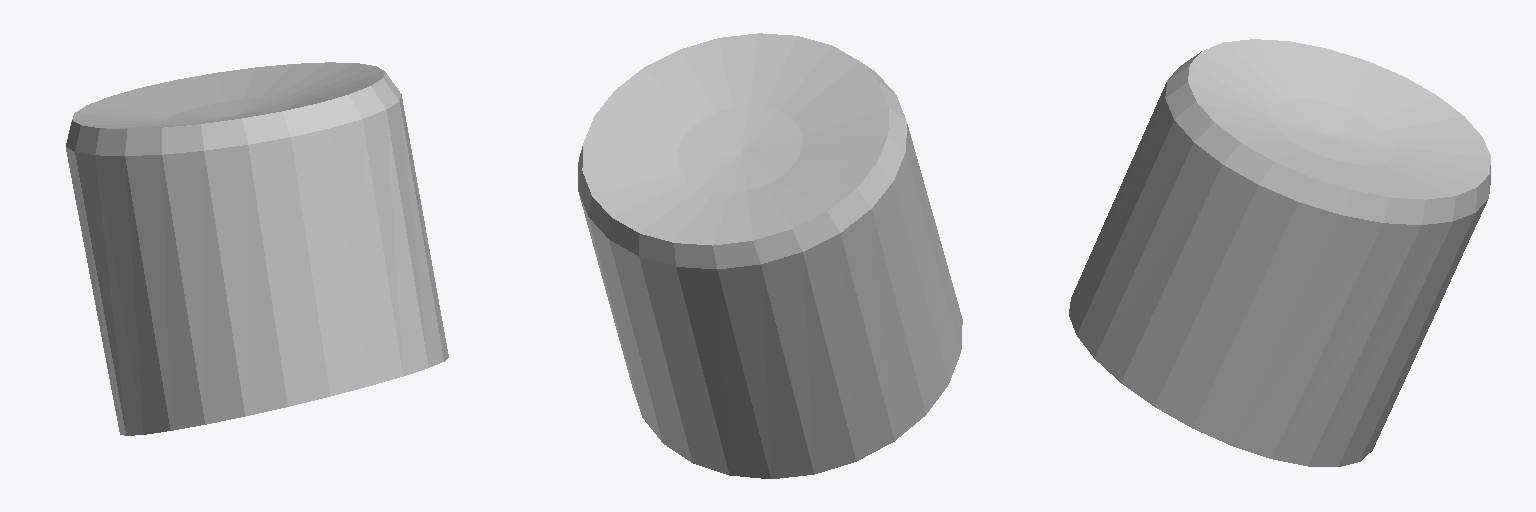
Rendered from button_system.obj.
The picture shows the model from 3 angles: view 1: azimuth 30°, elevation 25°; view 2: azimuth 150°, elevation 25°; view 3: azimuth 270°, elevation 25°; orthographic projection.
Parts seen in each view (by area): view 1: l_button_system; view 2: l_button_system; view 3: l_button_system.
Boxes of the visible parts, x1,y1,x2,y2 form: l_button_system: [66, 62, 448, 435]; l_button_system: [578, 33, 962, 478]; l_button_system: [1069, 39, 1490, 466].
Size of the model in its own units: 0.0061 by 0.0072 by 0.0076.